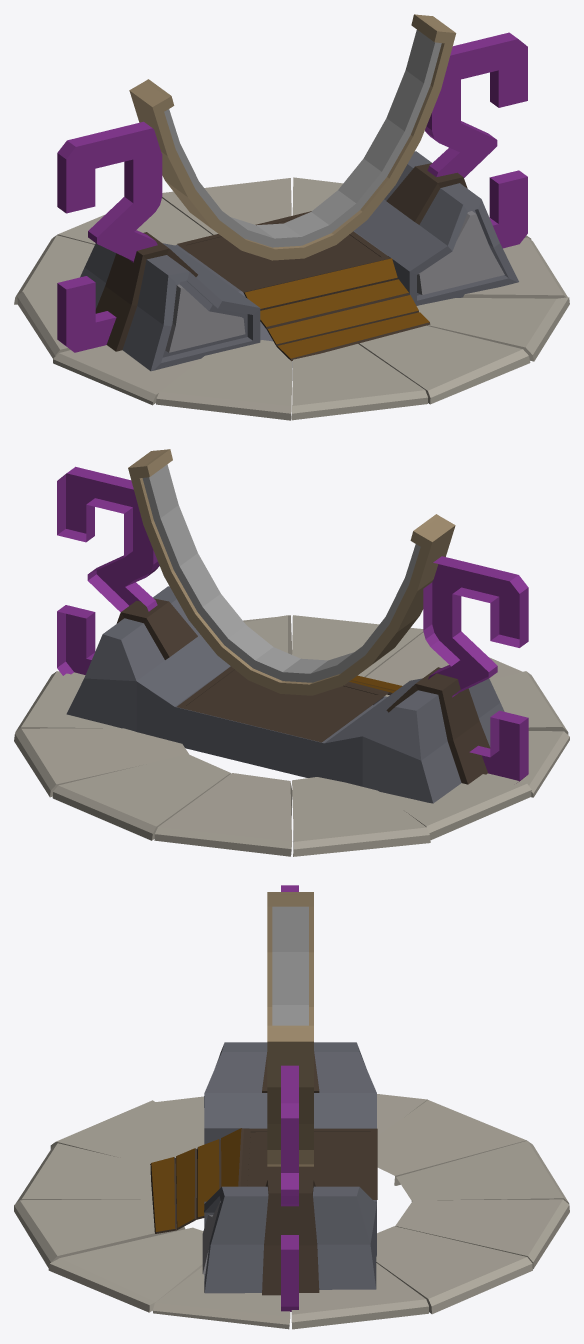
3 renders of one model, top to bottom at view 1: azimuth 30°, elevation 25°; view 2: azimuth 150°, elevation 25°; view 3: azimuth 270°, elevation 25°, orthographic.
Parts seen in each view (by area): view 1: Circle.002, Plane.003; view 2: Circle.002, Plane.003; view 3: Circle.002, Plane.003.
Part boxes in pixels (<box>): Circle.002: <box>14,14,569,420</box>; Plane.003: <box>57,32,527,352</box>; Circle.002: <box>14,449,569,856</box>; Plane.003: <box>57,466,528,783</box>; Circle.002: <box>14,892,569,1329</box>; Plane.003: <box>281,885,298,1311</box>.
Size of the model in its own units: 163 by 81.46 by 162.
